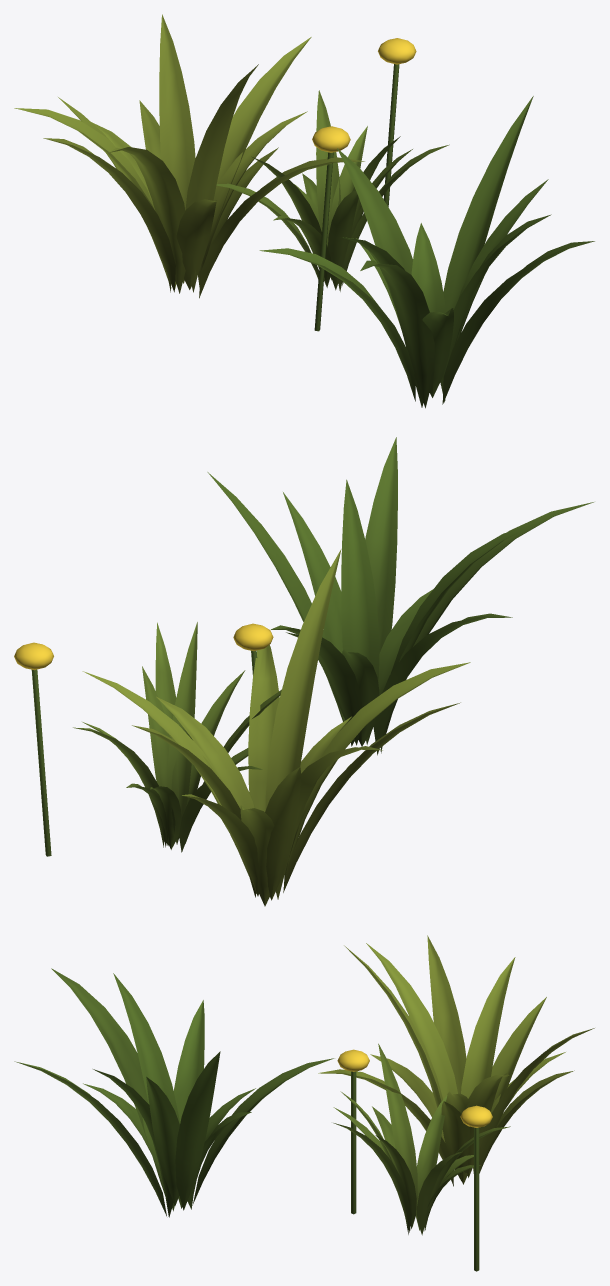
Rendered from yd_weeds__222.glb.
3 renders of one model, top to bottom at view 1: azimuth 30°, elevation 25°; view 2: azimuth 150°, elevation 25°; view 3: azimuth 270°, elevation 25°, orthographic. The views are drawn at different scales.
Parts seen in each view (by area): view 1: prop_yd_weeds; view 2: prop_yd_weeds; view 3: prop_yd_weeds.
Boxes of the visible parts, bbox=[...] form: prop_yd_weeds: bbox=[14, 14, 594, 408]; prop_yd_weeds: bbox=[14, 437, 593, 906]; prop_yd_weeds: bbox=[14, 935, 594, 1271].
Size of the model in its own units: 0.5715 by 0.3922 by 0.8526.
